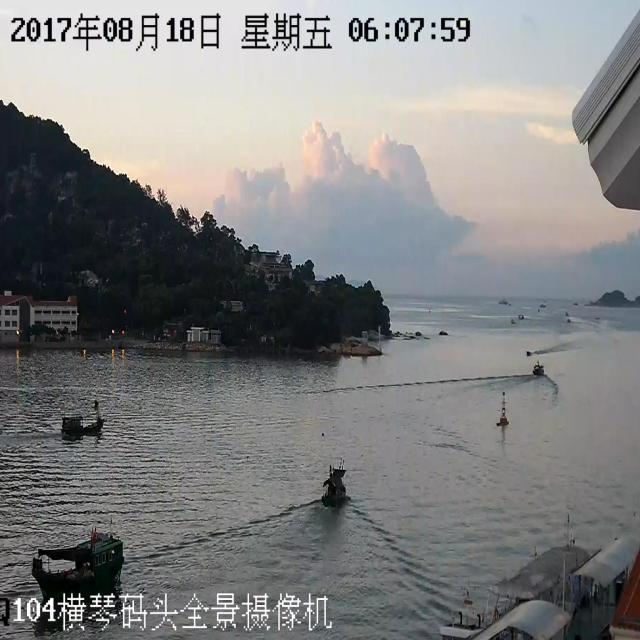buoy: (495, 374, 515, 439)
fishing boat: (24, 518, 136, 602), (46, 397, 118, 449), (316, 442, 354, 519), (530, 349, 549, 381)
